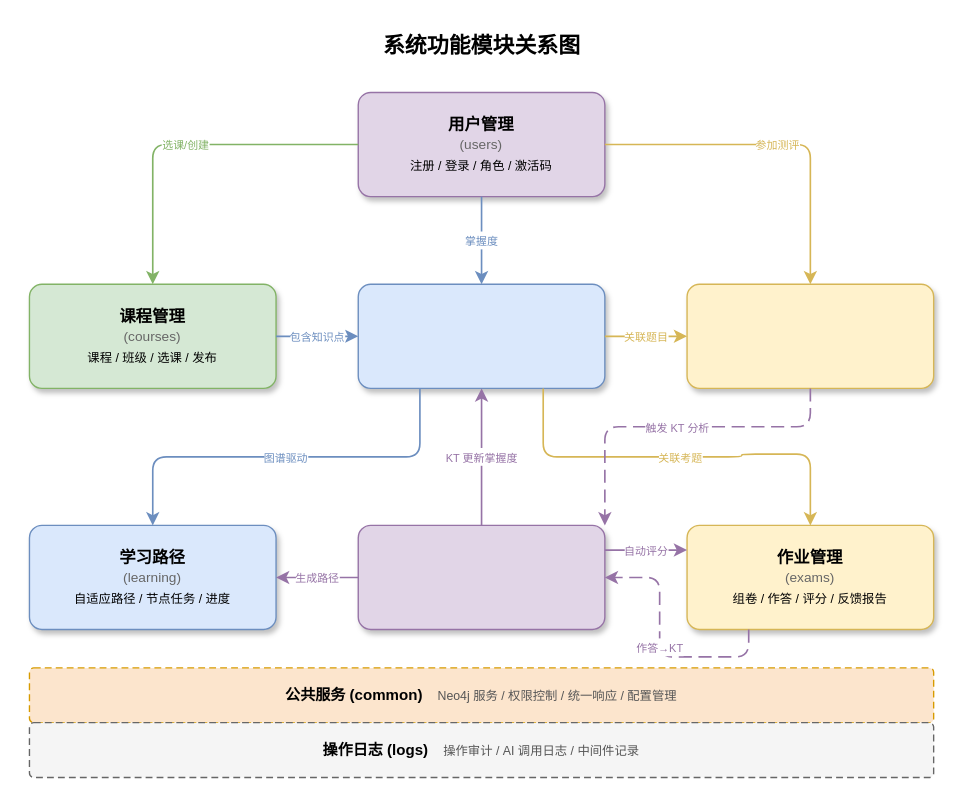
The diagram is 966 pixels wide and 801 high, and some of its shapes have lost their labels. The centre of each missing label's shape, as x and y in pixels:
AI 智能服务 (ai_services) KT / LLM / GraphRAG / 评分: the point at 482,579
测评管理 (assessments) 初始测评 / 能力评分 / 诊断: the point at 811,337
知识管理 (knowledge) 知识点 / 关系 / 资源 / 掌握度: the point at 482,337
